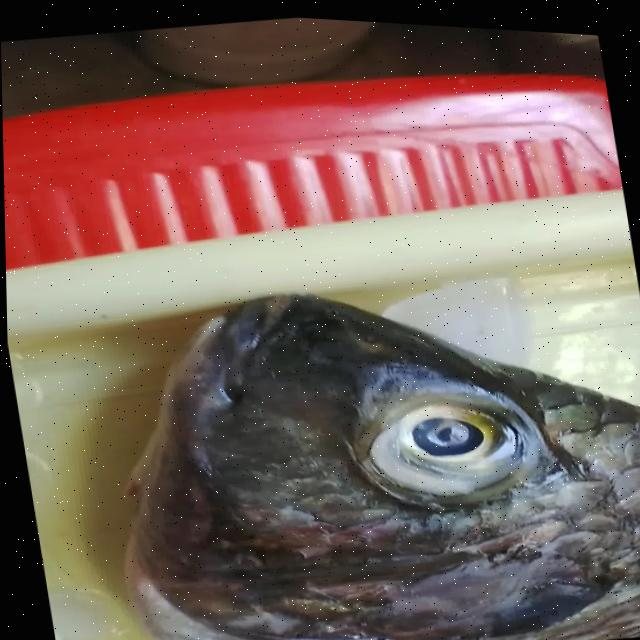Fresh: (326, 346, 579, 517)
